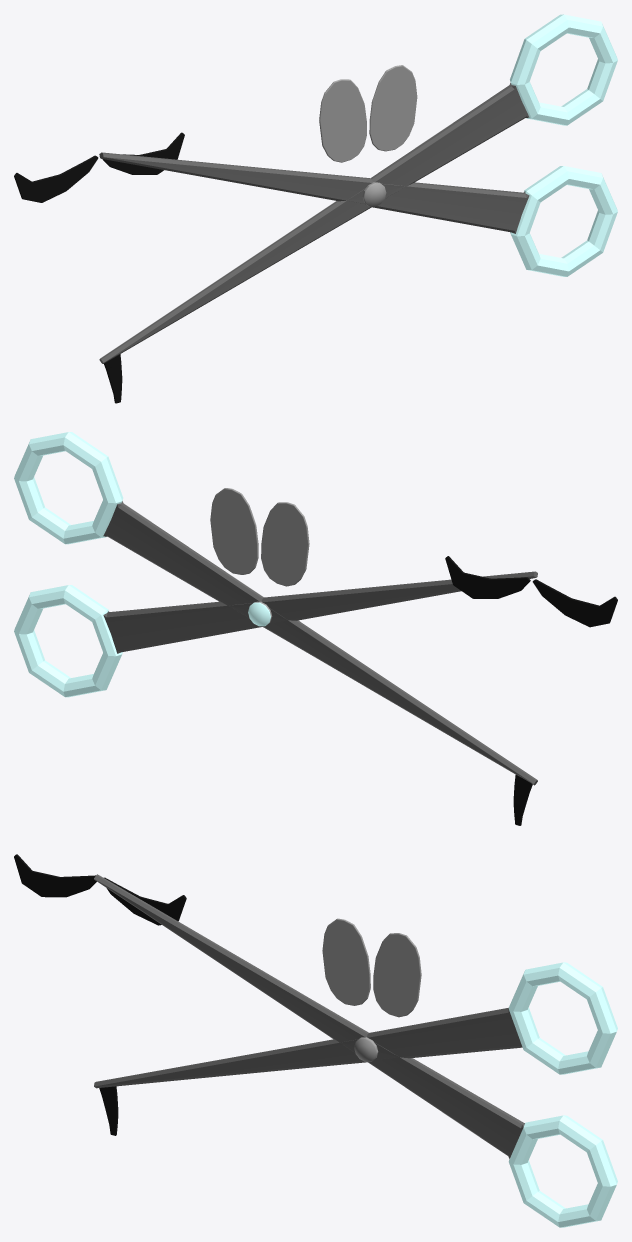
The model's file is Scissors.fbx.
The picture shows the model from 3 angles, top to bottom: view 1: azimuth 30°, elevation 25°; view 2: azimuth 150°, elevation 25°; view 3: azimuth 330°, elevation 25°; orthographic projection.
Visible parts, largest first — view 1: Scissor_Half, Scissor_Half1, Left_Eye, Right_Eye, Moustache, Goatee; view 2: Scissor_Half, Scissor_Half1, Left_Eye, Right_Eye, Moustache, Goatee; view 3: Scissor_Half1, Scissor_Half, Right_Eye, Left_Eye, Moustache, Goatee.
Boxes of the visible parts, x1=… form: Scissor_Half: x1=99, y1=14, x2=617, y2=363; Scissor_Half1: x1=99, y1=152, x2=617, y2=276; Left_Eye: x1=369, y1=65, x2=417, y2=151; Right_Eye: x1=319, y1=79, x2=366, y2=162; Moustache: x1=14, y1=132, x2=184, y2=202; Goatee: x1=104, y1=354, x2=122, y2=403; Scissor_Half: x1=14, y1=432, x2=537, y2=785; Scissor_Half1: x1=14, y1=571, x2=537, y2=697; Left_Eye: x1=210, y1=488, x2=258, y2=574; Right_Eye: x1=261, y1=502, x2=309, y2=586; Moustache: x1=445, y1=556, x2=617, y2=627; Goatee: x1=513, y1=774, x2=532, y2=825; Scissor_Half1: x1=94, y1=874, x2=617, y2=1227; Scissor_Half: x1=94, y1=962, x2=617, y2=1088; Right_Eye: x1=322, y1=918, x2=370, y2=1005; Left_Eye: x1=373, y1=933, x2=421, y2=1017; Moustache: x1=14, y1=854, x2=186, y2=925; Goatee: x1=99, y1=1086, x2=118, y2=1135.
Bounding box in the file's own units: 5.77 × 2.57 × 0.1758.
